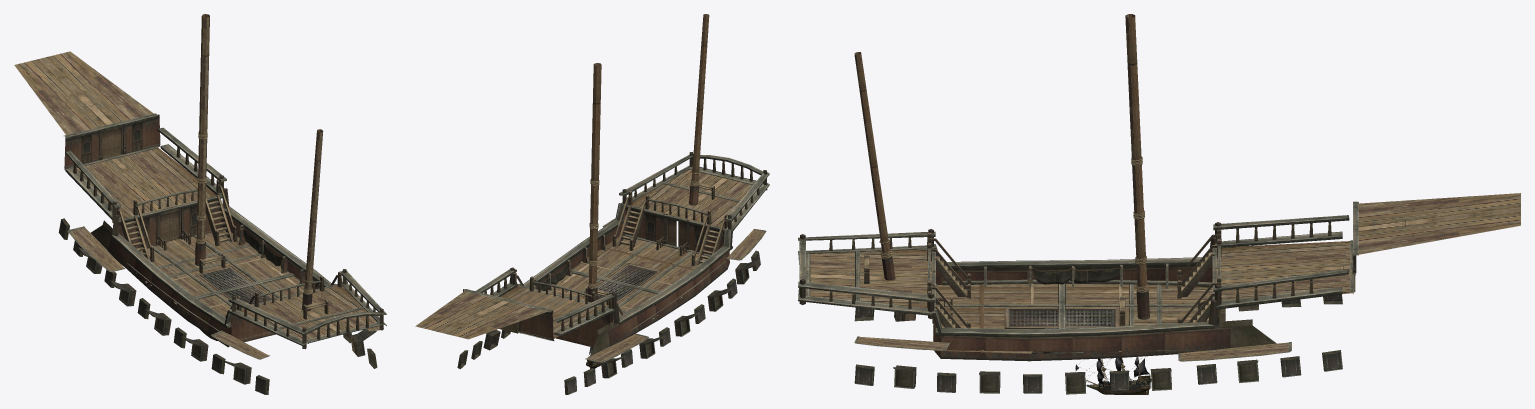
The model's file is T_Ship_09_intro.fbx.
The picture shows the model from 3 angles, left to right: view 1: azimuth 30°, elevation 25°; view 2: azimuth 150°, elevation 25°; view 3: azimuth 270°, elevation 25°; orthographic projection. The views are drawn at different scales.
Visible parts, largest first — view 1: T_Ship_09_intro; view 2: T_Ship_09_intro; view 3: T_Ship_09_intro, T_Ship_09.
Part boxes in pixels (x1,y1,x2,y2): T_Ship_09_intro: (14,14,386,394); T_Ship_09_intro: (415,14,769,394); T_Ship_09_intro: (798,14,1520,394); T_Ship_09: (1075,357,1151,394).
Bounding box in the file's own units: 25.7 × 48.54 × 83.9.
